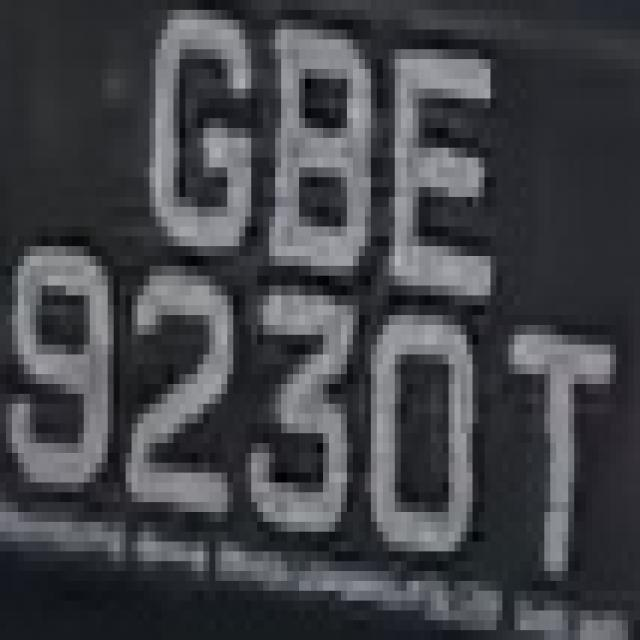0: (359, 305, 478, 591)
2: (120, 256, 233, 532)
3: (209, 266, 353, 522)
9: (6, 197, 132, 512)
B: (257, 39, 383, 325)
E: (365, 29, 508, 286)
G: (144, 10, 275, 305)
T: (485, 286, 622, 590)
